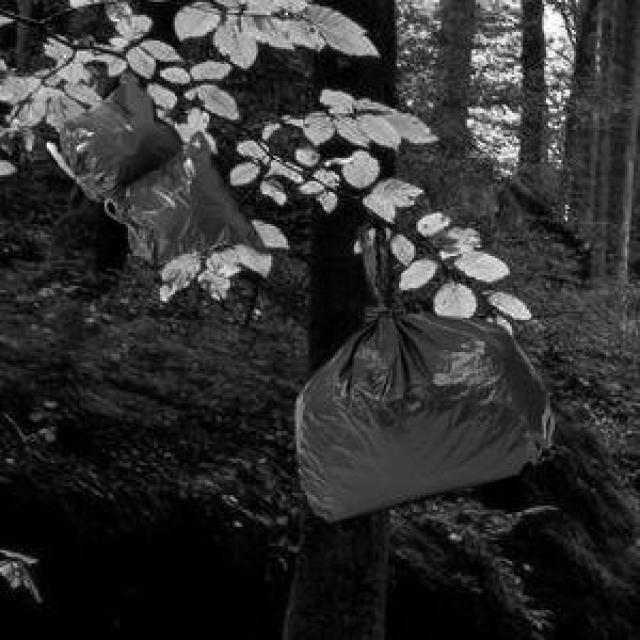miscellaneous trash: (292, 211, 550, 518), (43, 66, 260, 258)
